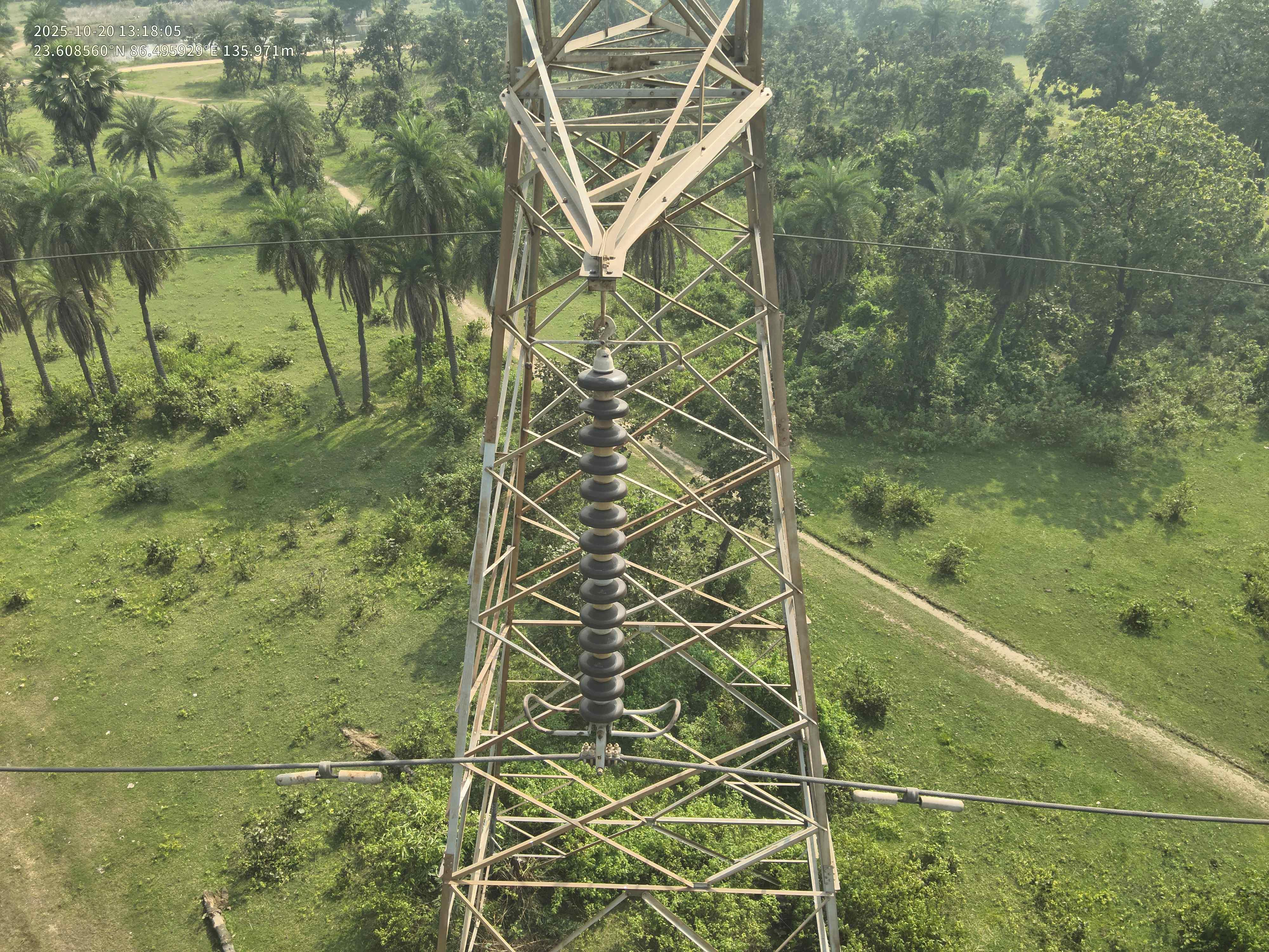broken_insulator: (572, 393, 638, 426)
